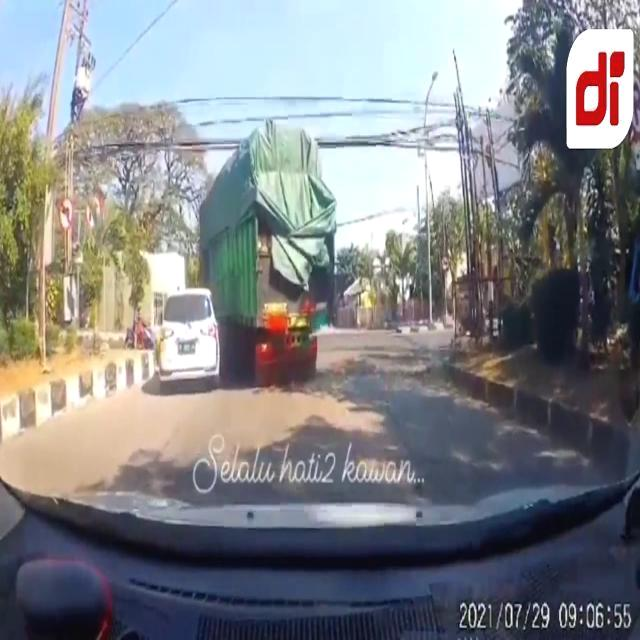accident: (154, 120, 338, 396)
